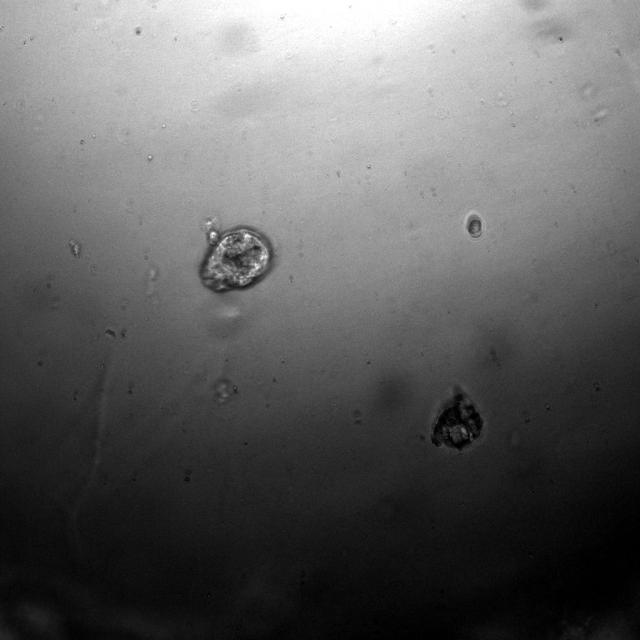organoid: (199, 227, 272, 292), (431, 390, 484, 453), (464, 210, 485, 240), (214, 379, 237, 403)
